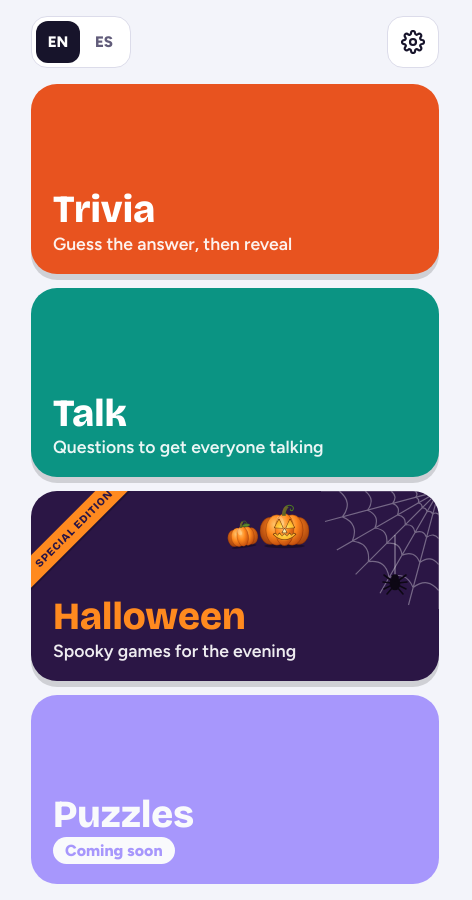
Test: Trivia › shows the options inside the card, in place of the Show options button
Click the button "Trivia Guess the answer, then reveal" at (104, 209), box [31, 84, 439, 274]
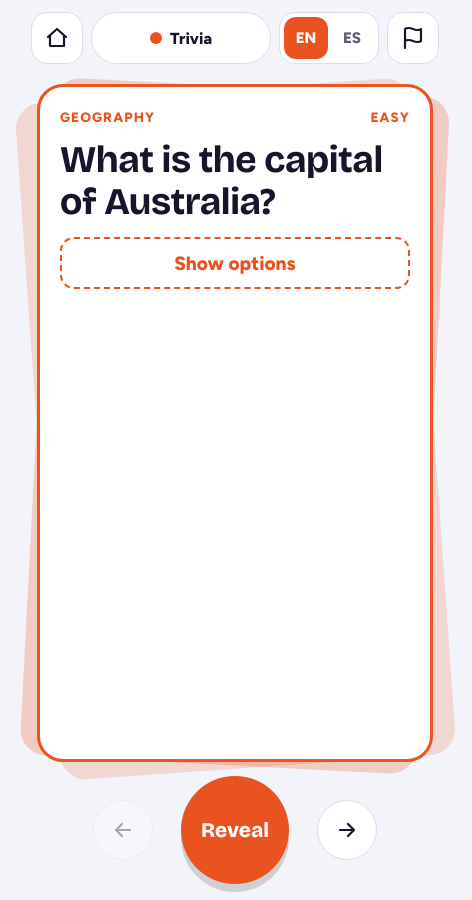
Expected: the element that starts with "Geography" is shown
Expected: the button "Show options" is shown
Click the button "Show options" at (235, 263), box [60, 237, 410, 289]
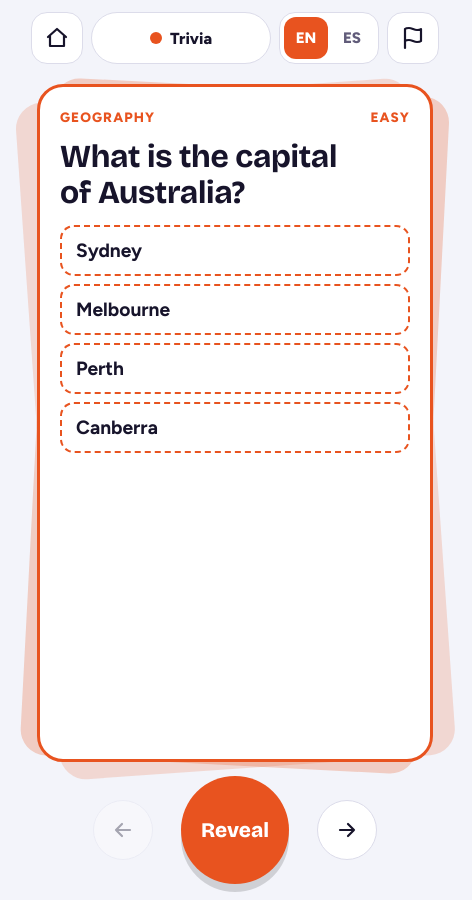
Expected: the list named "Options" is shown, [60, 225, 410, 453]
Expected: the button "Show options" is gone
